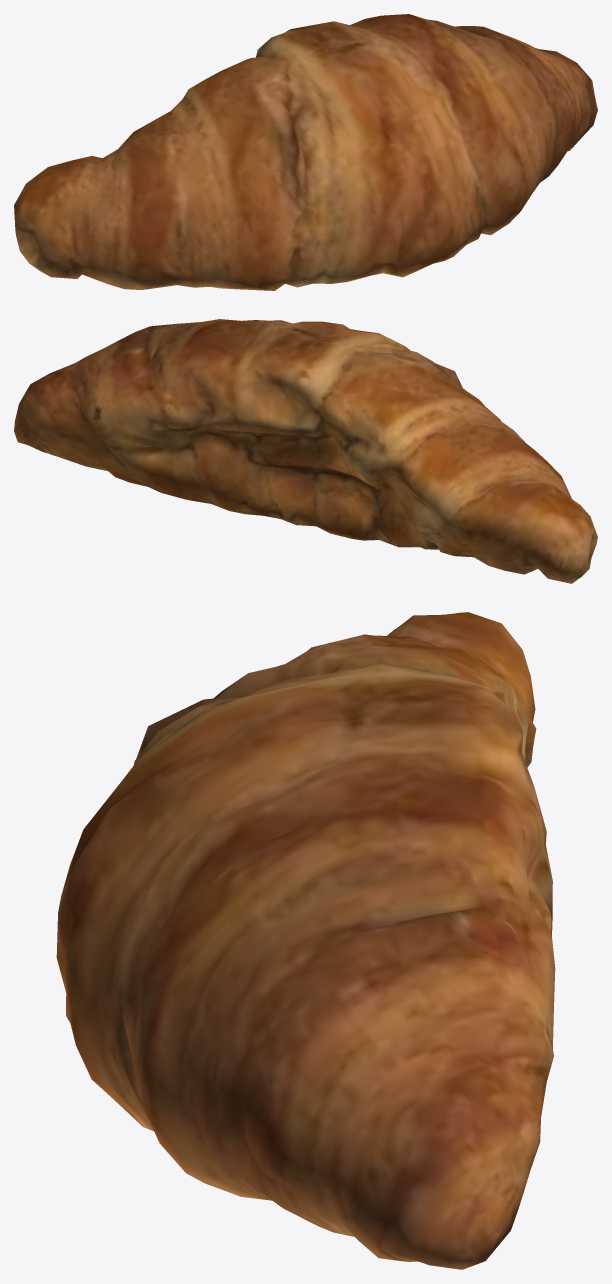
The model's file is croissant.glb.
The picture shows the model from 3 angles, top to bottom: view 1: azimuth 30°, elevation 25°; view 2: azimuth 150°, elevation 25°; view 3: azimuth 270°, elevation 25°; orthographic projection. The views are drawn at different scales.
Visible parts, largest first — view 1: croissant; view 2: croissant; view 3: croissant.
Boxes of the visible parts, x1,y1,x2,y2 form: croissant: [14, 14, 597, 290]; croissant: [14, 319, 597, 583]; croissant: [56, 612, 555, 1269].
Bounding box in the file's own units: 0.2 × 0.062 × 0.0755.
Materials: 1 (1 with a texture image).
